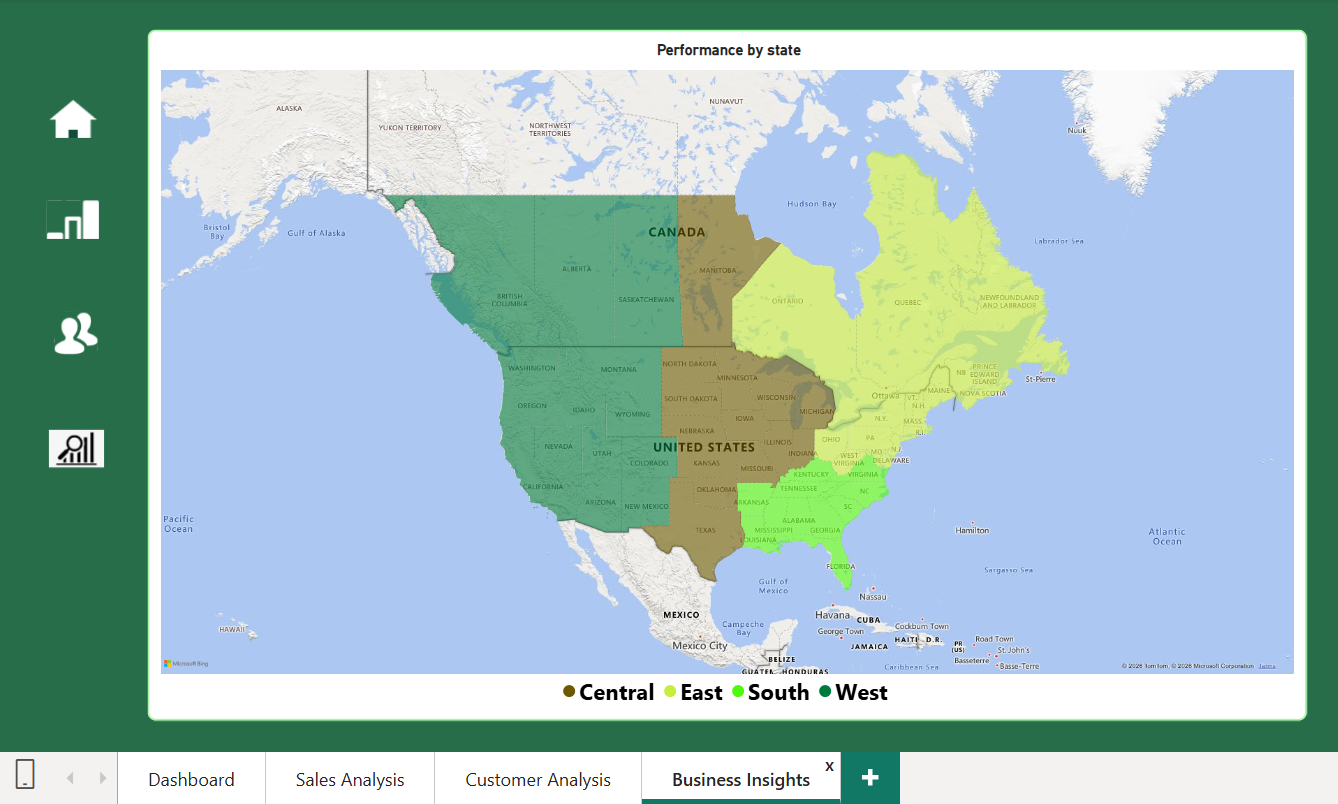

Layout of this report page (visuals, bound fields, positions):
{"tool":"powerbi","page":{"name":"Business Insights ","canvas":[1920,1080],"ordinal":3},"visuals":[{"type":"actionButton","box":[56.7,286.3,100.2,59.6],"z":0},{"type":"actionButton","box":[59.5,445,100.2,71.6],"z":1000},{"type":"actionButton","box":[59.5,598.1,102,96.4],"z":2000},{"type":"actionButton","box":[56.7,130.4,100.2,69.2],"z":3000},{"type":"filledMap","title":"Performance by state","fields":{"Category":["superstore_project orders.State_Province"],"Series":["superstore_project orders.Region"]},"box":[212.3,45.3,1660.6,990.2],"z":3001}]}

Visuals, with their boxes on the page's 1920x1080 design canvas (x1, y1, x2, y2). These are canvas units, not pixel positions in the 1338x804 screenshot, which may show the page scaled, cropped or inside an application window:
actionButton: detection(57, 286, 157, 346)
actionButton: detection(60, 445, 160, 517)
actionButton: detection(60, 598, 162, 694)
actionButton: detection(57, 130, 157, 200)
"Performance by state" filledMap: detection(212, 45, 1873, 1036)
